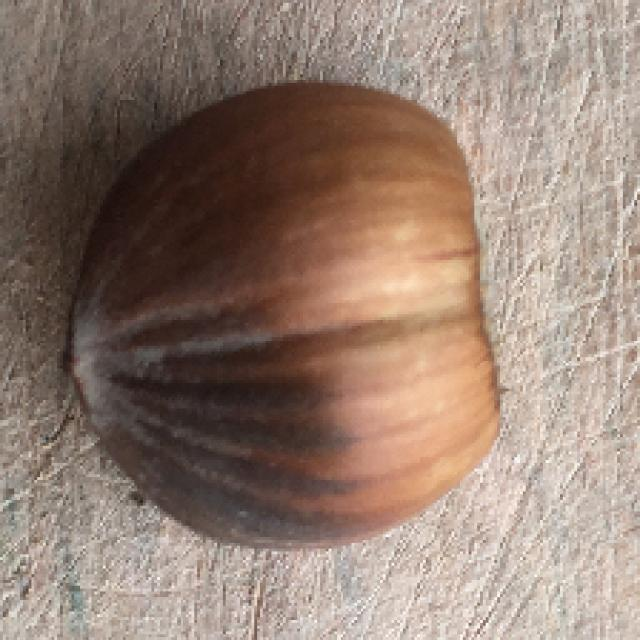damagedHazelnut: (55, 86, 507, 549)
